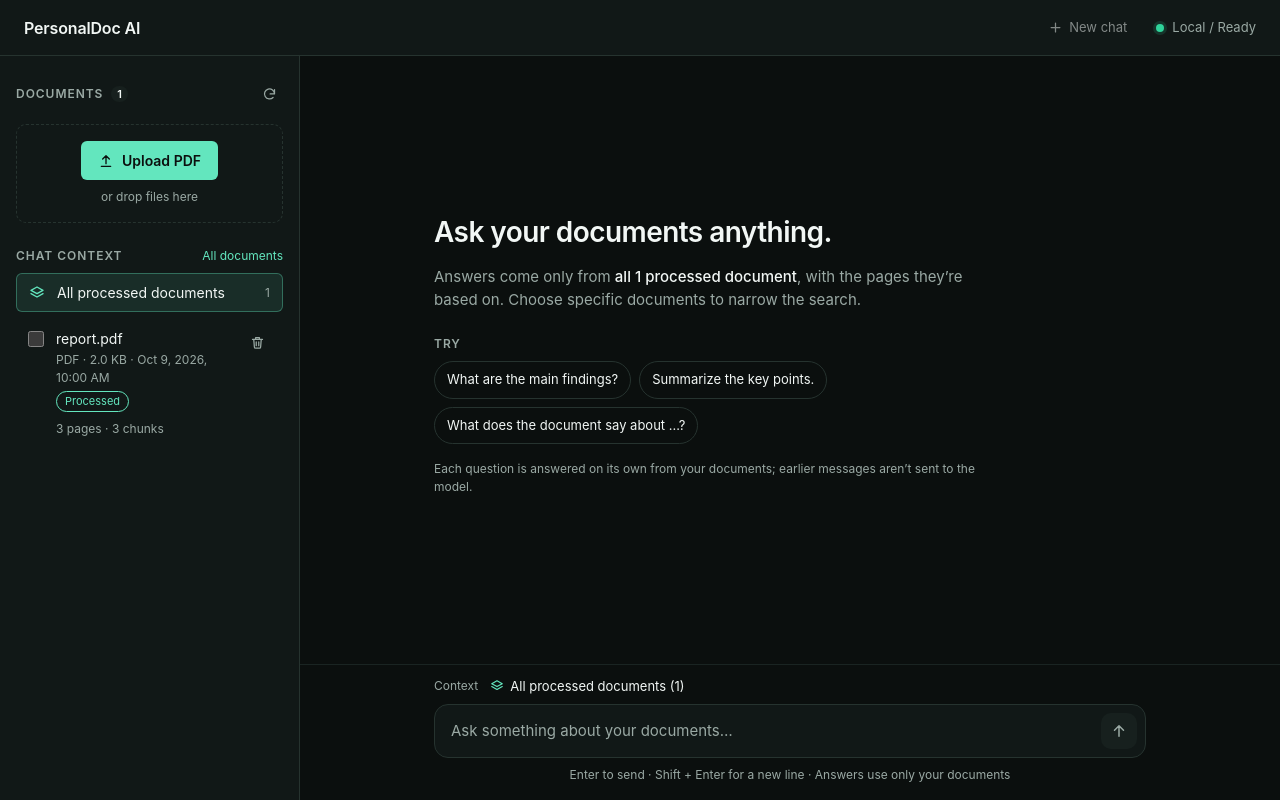
Scenario: asking a question › shows the not-found fallback without sources
Type "What is the capital of Australia?" into the text box named "ask a question about your documents" at (772, 732), box [451, 714, 1093, 749]
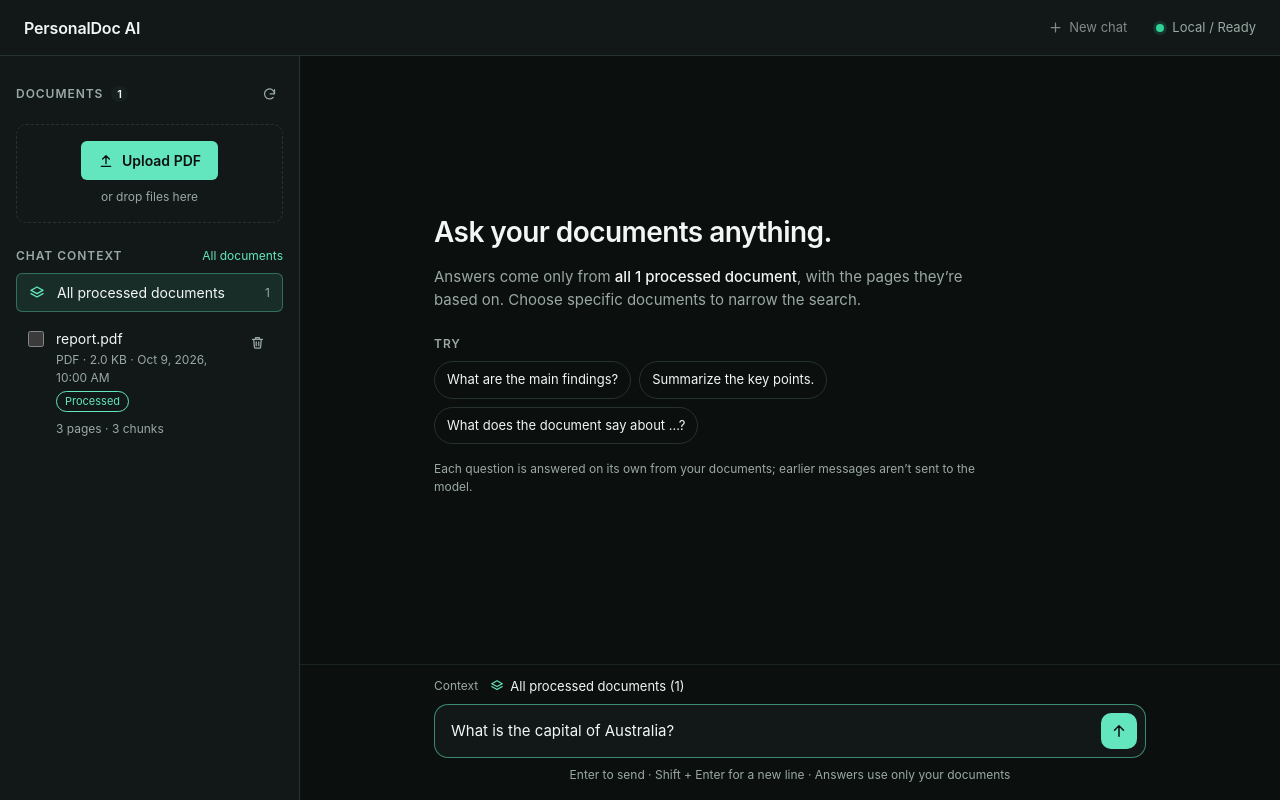
Click the button named "Send question" at (1119, 731), box [1101, 713, 1137, 749]
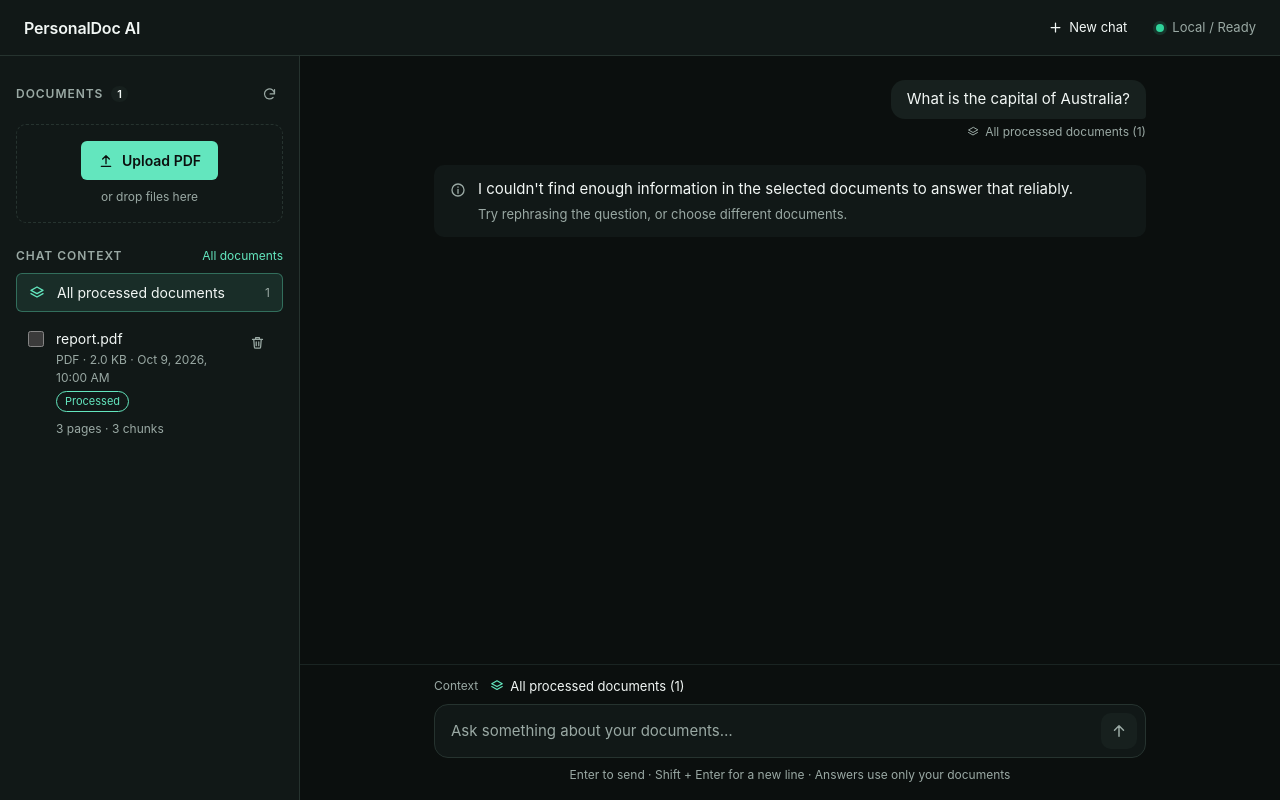
Now the text "couldn't find enough information" is shown, box [478, 178, 1073, 198]
Now the text "Try rephrasing the question, or choose different documents." is shown, box [478, 206, 847, 222]
